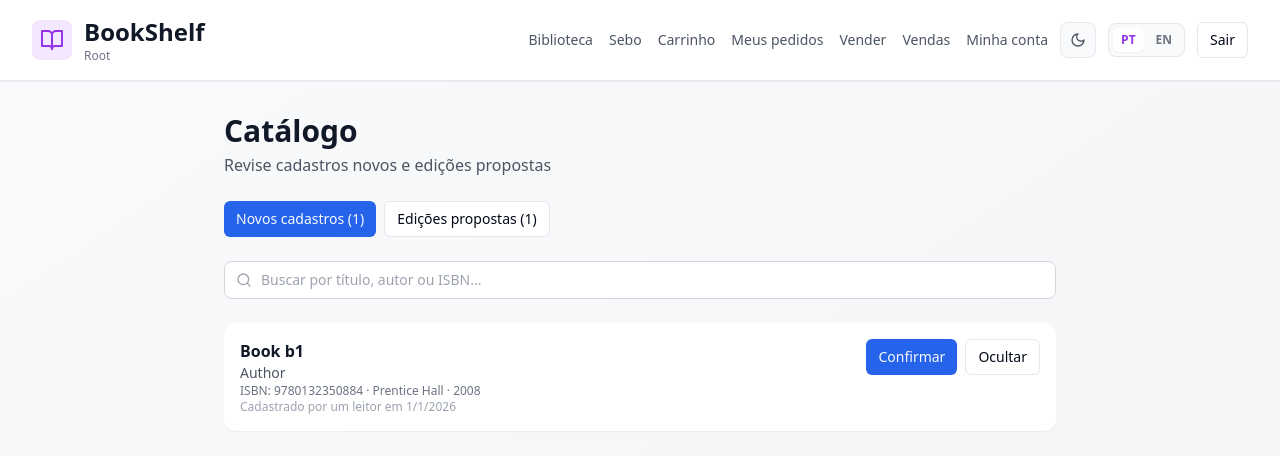
Test: AdminCatalogPage proposed edits › shows each change from the old to the new value, with readable field names
Check: the list item with test id "catalog-book-b1" is shown, box [224, 323, 1056, 431]
Step 1. Click the tab with test id "catalog-tab-revisions" → x=467, y=219, box [384, 201, 550, 237]
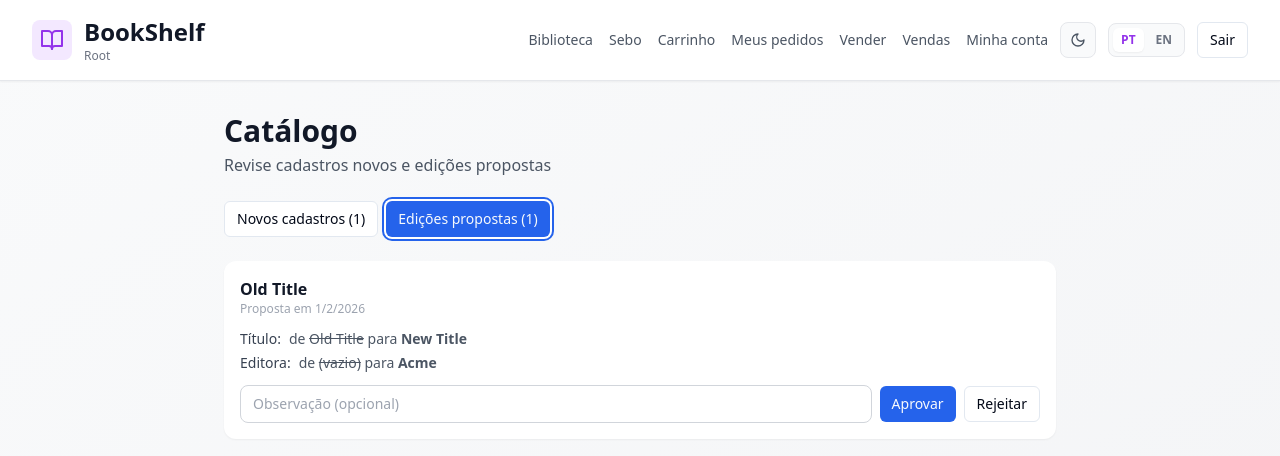
Check: the element with test id "catalog-revision-changes-r1" shows "Título", box [240, 329, 277, 348]
Check: the element with test id "catalog-revision-changes-r1" shows "Old Title", box [309, 329, 364, 348]
Check: the element with test id "catalog-revision-changes-r1" shows "New Title", box [401, 329, 467, 348]
